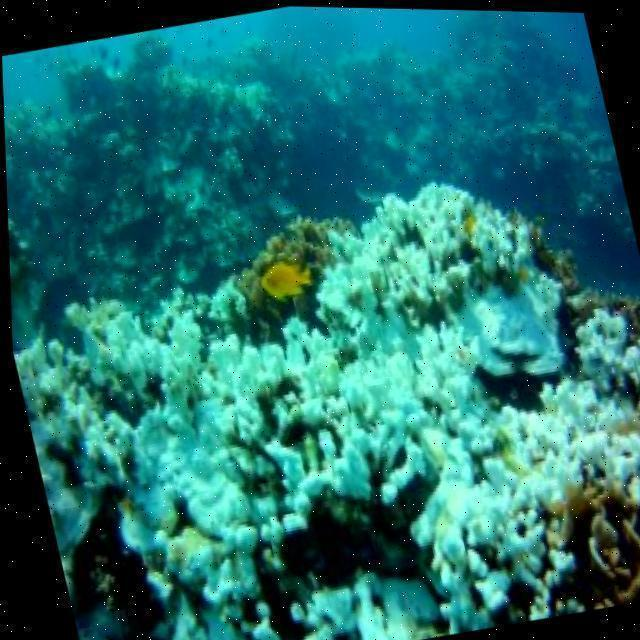Bleached Coral: (70, 187, 640, 640)
